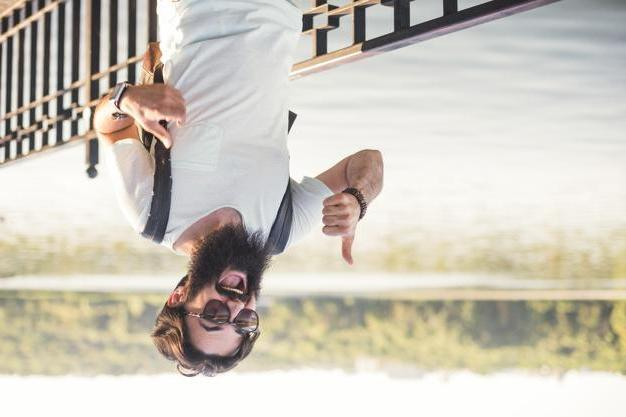thumbsdown: (323, 194, 356, 265)
